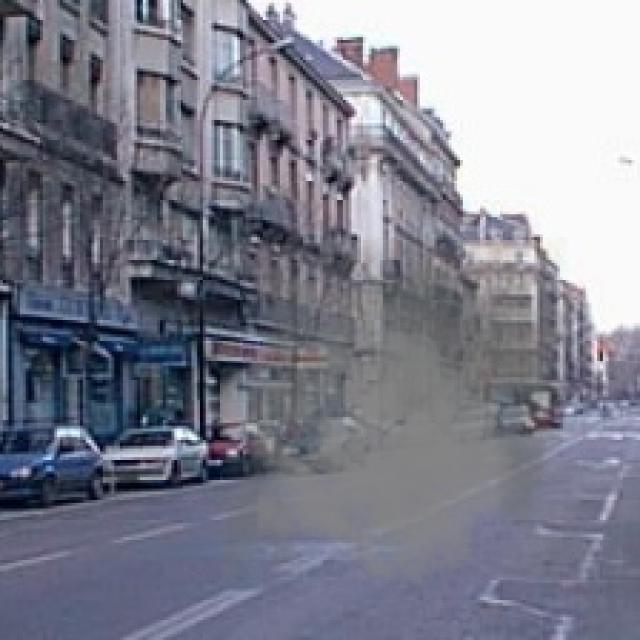smoke: (220, 237, 569, 592)
